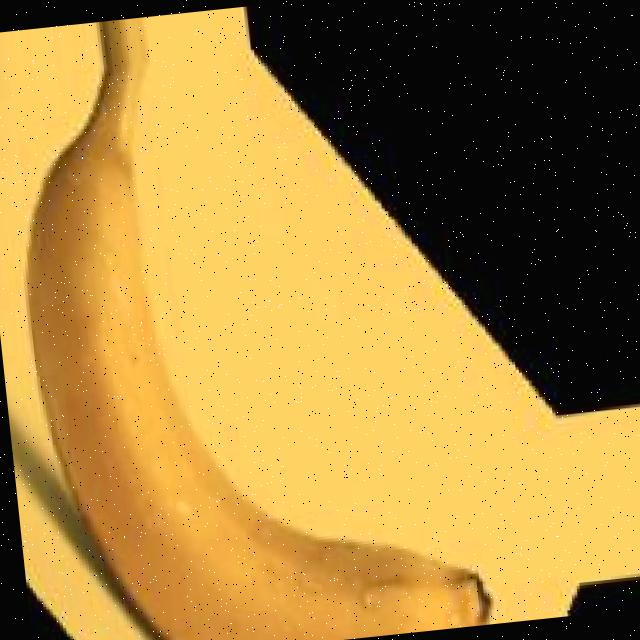banana: (0, 37, 509, 640)
